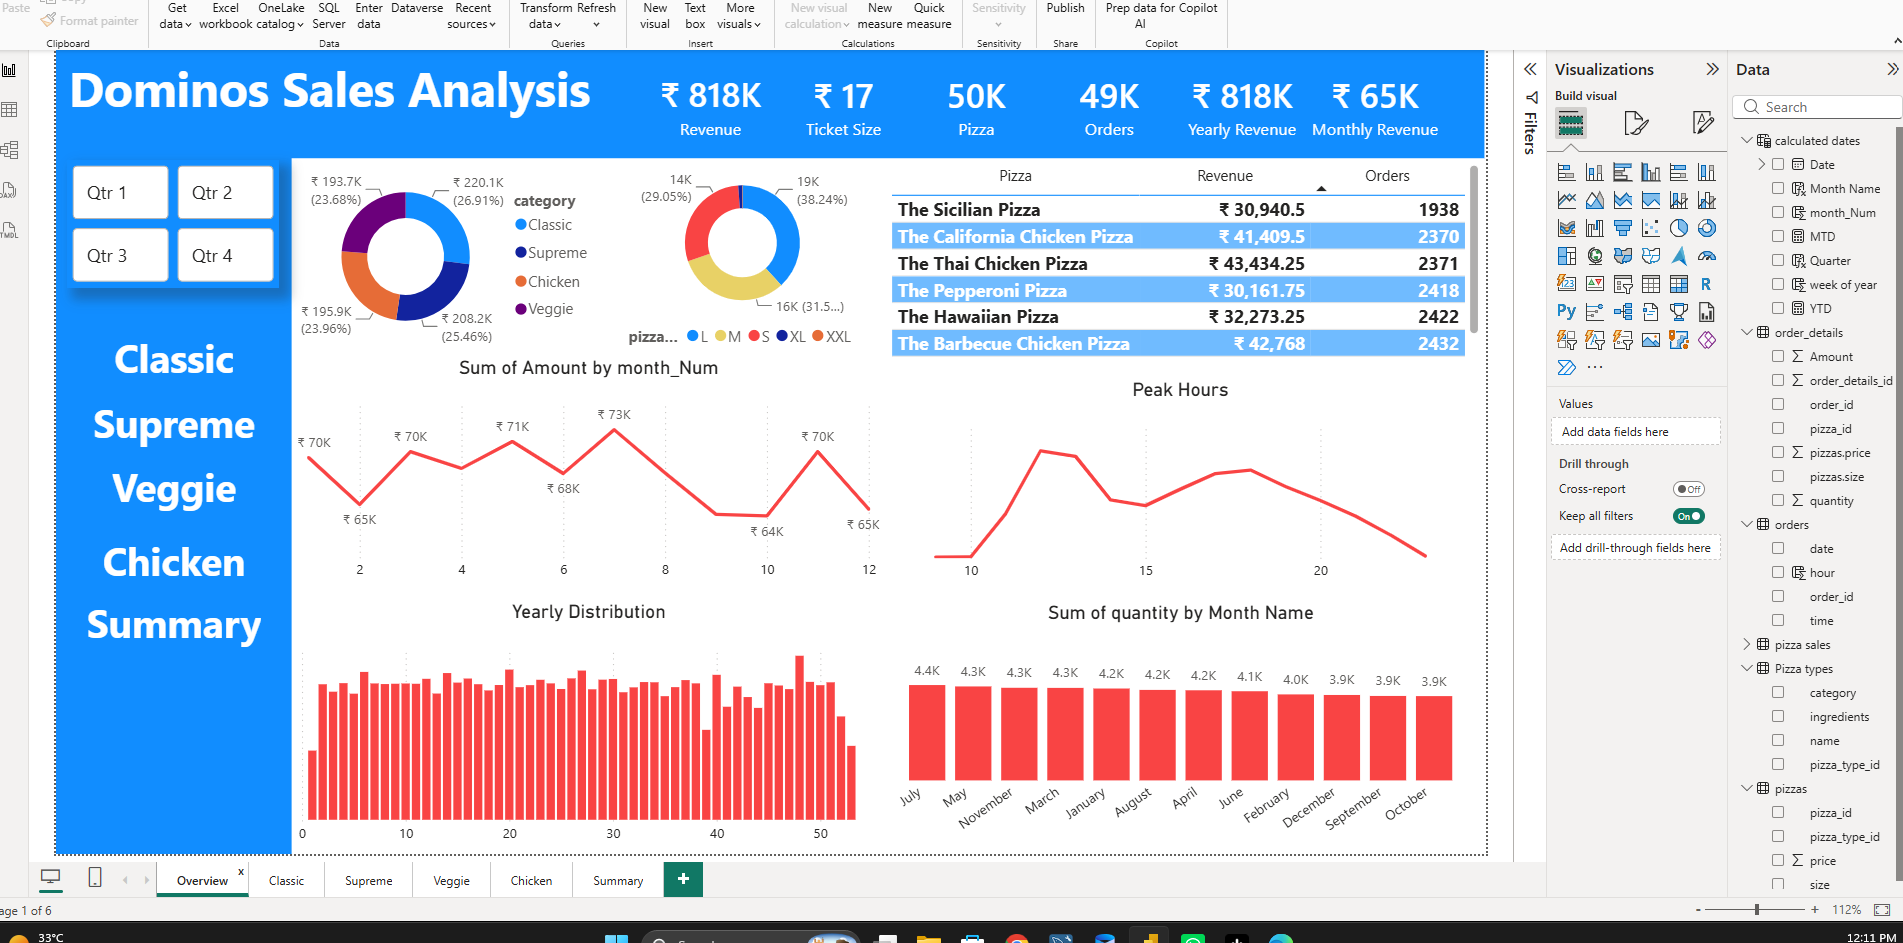

What the dashboard file says about the page in this screenshot:
{"tool":"powerbi","page":{"name":"Overview","canvas":[1280,720],"ordinal":0},"visuals":[{"type":"shape","box":[0,0,211.4,720],"z":0},{"type":"shape","box":[204.6,0,1075.4,96.9],"z":1000},{"type":"textbox","box":[0,0,490,96.2],"z":2000},{"type":"cardVisual","fields":{"Data":["Sum(order_details.Amount)","Avg(order_details.Amount)","Sum(order_details.quantity)","CountNonNull(order_details.order_id)","calculated dates.YTD","calculated dates.MTD"]},"box":[490,0,790,98.6],"z":3000},{"type":"donutChart","title":"Category Wise Revenue","fields":{"Category":["Pizza types.category"],"Y":["Sum(order_details.Amount)"]},"box":[211.3,95.8,278.5,178.2],"z":4000},{"type":"advancedSlicerVisual","fields":{"Values":["calculated dates.Quarter"]},"box":[10,98.5,190,114.6],"z":5000},{"type":"columnChart","title":"Yearly Distribution","fields":{"Y":["Sum(order_details.Amount)"],"Category":["calculated dates.week of year"]},"box":[211.4,492.9,531.4,227.1],"z":6000},{"type":"lineChart","fields":{"Y":["Sum(order_details.Amount)"],"Category":["calculated dates.month_Num"]},"box":[211.4,274.3,531.4,210],"z":7000},{"type":"donutChart","fields":{"Category":["order_details.pizzas.size"],"Y":["Sum(order_details.quantity)"]},"box":[496.1,99.4,237.1,175.7],"z":8000},{"type":"tableEx","fields":{"Values":["Pizza types.name","Sum(order_details.Amount)","Sum(order_details.quantity)"]},"box":[742.4,97.6,537.3,184.5],"z":9000},{"type":"lineChart","title":"Peak Hours","fields":{"Category":["orders.hour"],"Y":["CountNonNull(order_details.order_details_id)"]},"box":[741.5,293.7,531,190.7],"z":10000},{"type":"columnChart","fields":{"Category":["calculated dates.Month Name"],"Y":["Sum(order_details.quantity)"]},"box":[742,493,530,227],"z":11000},{"type":"actionButton","box":[21.4,247.1,168.6,55.7],"z":12000},{"type":"actionButton","box":[21.4,305.7,168.6,55.7],"z":13000},{"type":"actionButton","box":[21.4,362.9,168.6,55.7],"z":14000},{"type":"actionButton","box":[21.1,428.9,168.6,55.7],"z":15000},{"type":"actionButton","box":[21.4,484.3,168.6,55.7],"z":16000}]}

Visuals, with their boxes on the page's 1280x720 design canvas (x1, y1, x2, y2). These are canvas units, not pixel positions in the 1903x943 screenshot, which may show the page scaled, cropped or inside an application window:
shape: <bbox>0, 0, 211, 720</bbox>
shape: <bbox>205, 0, 1280, 97</bbox>
textbox: <bbox>0, 0, 490, 96</bbox>
cardVisual - Sum(order_details.Amount) x Avg(order_details.Amount): <bbox>490, 0, 1280, 99</bbox>
"Category Wise Revenue" donutChart: <bbox>211, 96, 490, 274</bbox>
advancedSlicerVisual - calculated dates.Quarter: <bbox>10, 98, 200, 213</bbox>
"Yearly Distribution" columnChart: <bbox>211, 493, 743, 720</bbox>
lineChart - Sum(order_details.Amount) x calculated dates.month_Num: <bbox>211, 274, 743, 484</bbox>
donutChart - order_details.pizzas.size x Sum(order_details.quantity): <bbox>496, 99, 733, 275</bbox>
tableEx - Pizza types.name x Sum(order_details.Amount): <bbox>742, 98, 1280, 282</bbox>
"Peak Hours" lineChart: <bbox>742, 294, 1272, 484</bbox>
columnChart - calculated dates.Month Name x Sum(order_details.quantity): <bbox>742, 493, 1272, 720</bbox>
actionButton: <bbox>21, 247, 190, 303</bbox>
actionButton: <bbox>21, 306, 190, 361</bbox>
actionButton: <bbox>21, 363, 190, 419</bbox>
actionButton: <bbox>21, 429, 190, 485</bbox>
actionButton: <bbox>21, 484, 190, 540</bbox>
